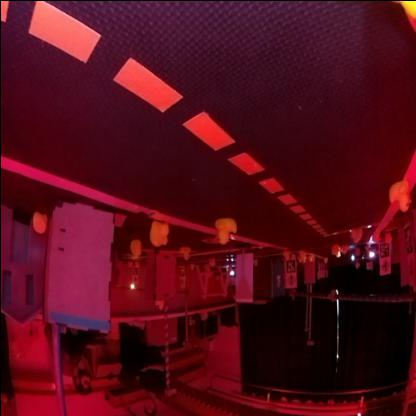Duckie: (388, 182, 408, 212), (214, 219, 235, 243), (149, 222, 167, 246), (32, 213, 46, 233), (129, 240, 141, 254), (349, 227, 358, 243), (178, 246, 187, 260), (332, 245, 338, 254), (340, 245, 346, 252)
Intersection sign: (379, 261, 388, 273)
QR code: (378, 242, 390, 258), (285, 259, 295, 272)
Signal sign: (285, 274, 295, 287)
